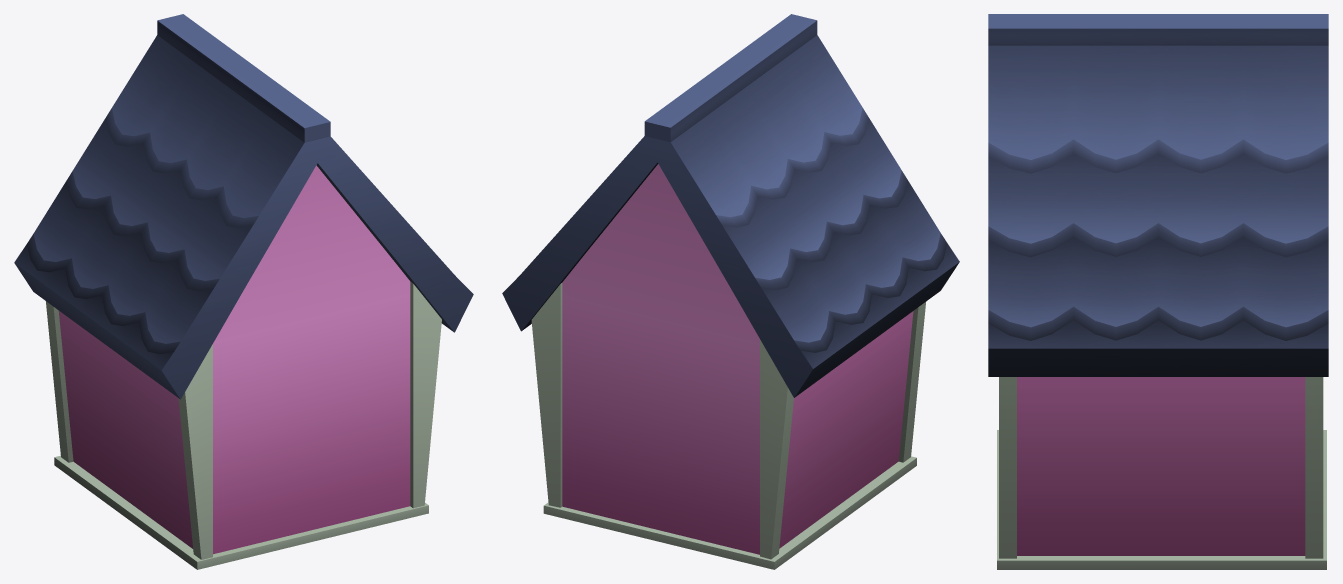
The model's file is Building_Main_03C.fbx.
3 views of the same model, side by side, from view 1: azimuth 30°, elevation 25°; view 2: azimuth 150°, elevation 25°; view 3: azimuth 270°, elevation 25° (orthographic). The views are drawn at different scales.
Visible parts, largest first — view 1: Building_Main_03C; view 2: Building_Main_03C; view 3: Building_Main_03C.
Part boxes in pixels (x1=…): Building_Main_03C: x1=14, y1=14, x2=473, y2=569; Building_Main_03C: x1=502, y1=14, x2=959, y2=569; Building_Main_03C: x1=988, y1=14, x2=1328, y2=569.
Size of the model in its own units: 585 by 750 by 478.
2 materials, 2 textured.
